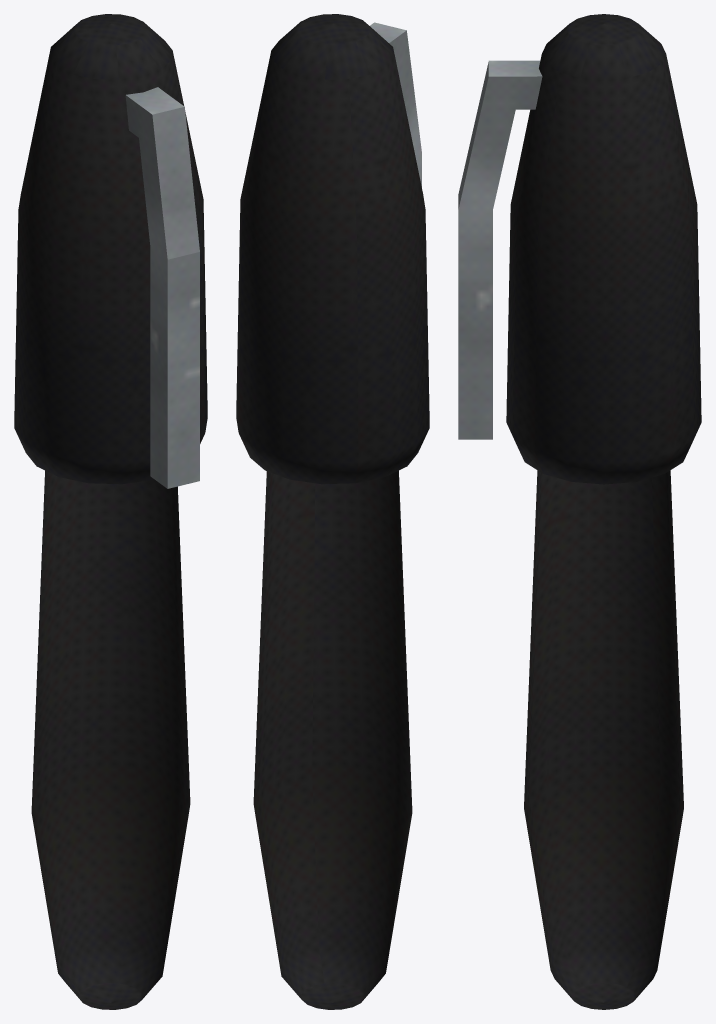
The model's file is PenCapped.fbx.
3 renders of one model, left to right at view 1: azimuth 30°, elevation 25°; view 2: azimuth 150°, elevation 25°; view 3: azimuth 270°, elevation 25°, orthographic.
Visible parts, largest first — view 1: Pen.003, PenCap.002, PenCap.003; view 2: PenCap.002, Pen.003, PenCap.003; view 3: PenCap.002, Pen.003, PenCap.003.
Boxes of the visible parts, box(x1,y1,x2,y2) form: Pen.003: box(31, 470, 190, 1009); PenCap.002: box(14, 14, 207, 484); PenCap.003: box(125, 87, 199, 488); PenCap.002: box(236, 14, 429, 484); Pen.003: box(253, 470, 412, 1009); PenCap.003: box(370, 22, 421, 187); PenCap.002: box(506, 14, 701, 484); Pen.003: box(524, 470, 683, 1009); PenCap.003: box(458, 60, 542, 439).
Size of the model in its own units: 0.0286 by 0.1581 by 0.0356.
2 materials, 2 textured.
